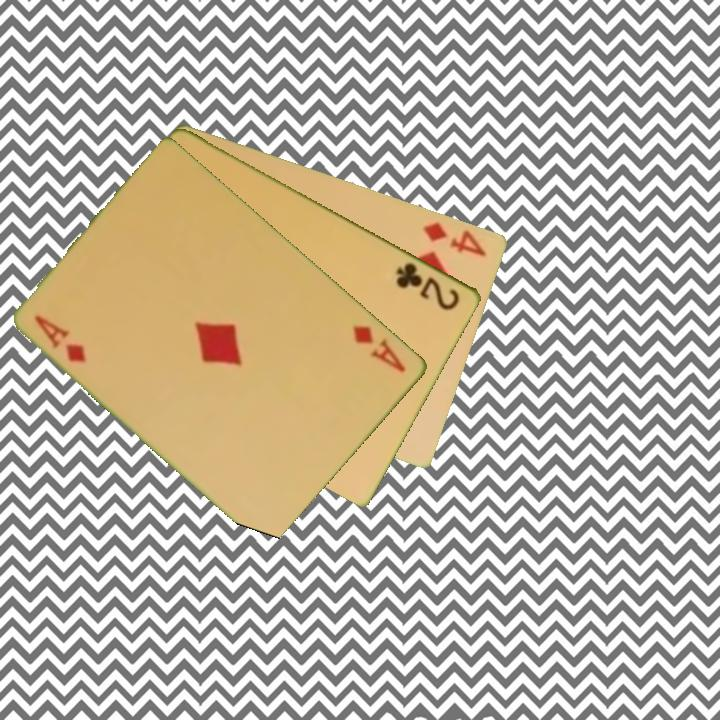2c: (393, 258, 464, 313)
4d: (420, 218, 489, 259)
Ad: (349, 322, 410, 376), (31, 311, 90, 366)
